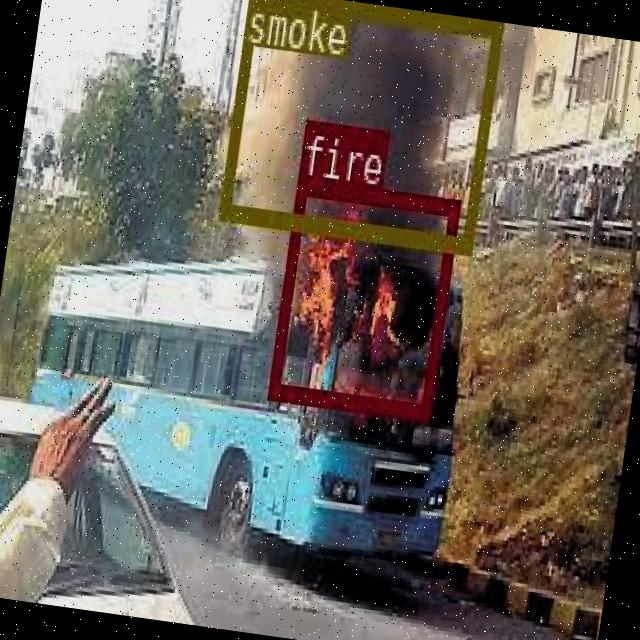fire: (267, 174, 459, 417)
smoke: (215, 0, 502, 253)
